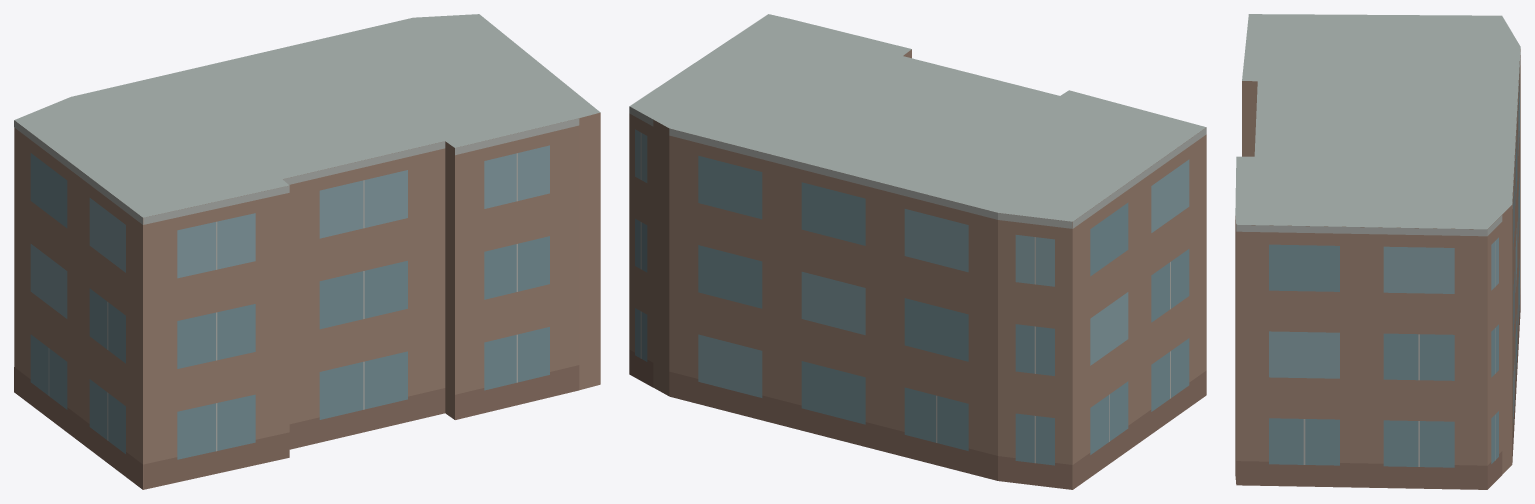
File: survey-upis-32888909.glb
The picture shows the model from 3 angles, left to right: view 1: azimuth 30°, elevation 25°; view 2: azimuth 150°, elevation 25°; view 3: azimuth 270°, elevation 25°; orthographic projection. The views are drawn at different scales.
Visible parts, largest first — view 1: survey-upis-32888909.tmp; view 2: survey-upis-32888909.tmp; view 3: survey-upis-32888909.tmp.
Part boxes in pixels (box(x1,y1,x2,y2)): survey-upis-32888909.tmp: box(14, 14, 600, 489); survey-upis-32888909.tmp: box(629, 14, 1206, 489); survey-upis-32888909.tmp: box(1235, 14, 1520, 489).
Bounding box in the file's own units: 16.23 × 9.15 × 9.09.
